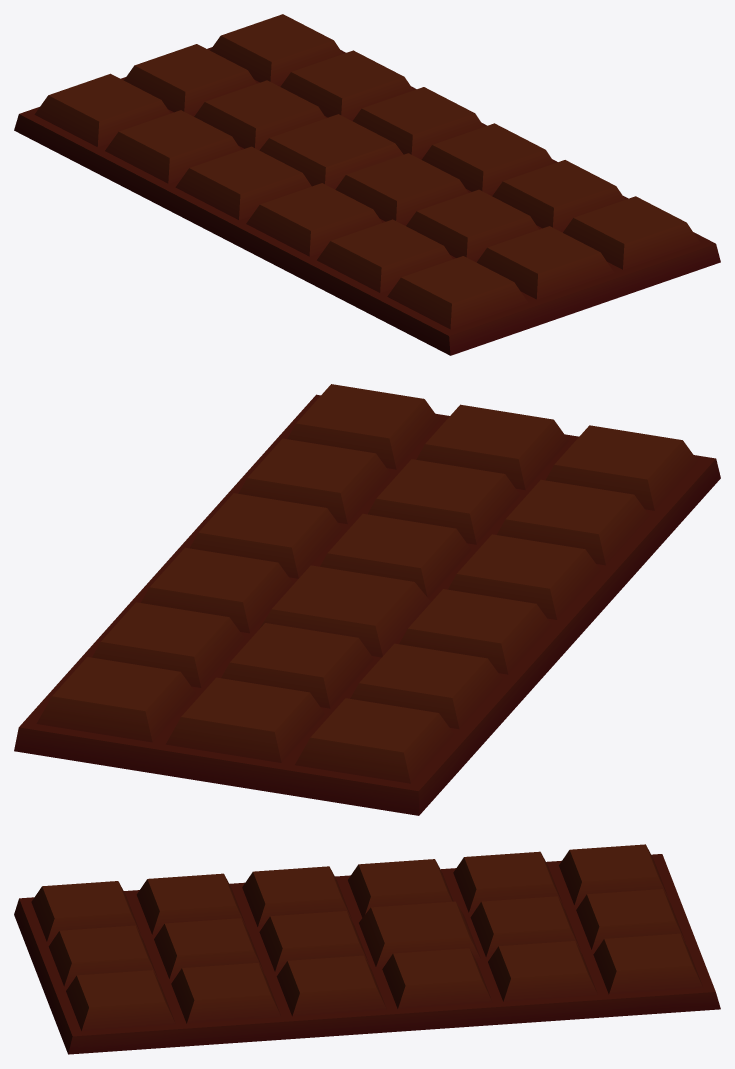
The model's file is Chocolate Bar.fbx.
The picture shows the model from 3 angles, top to bottom: view 1: azimuth 30°, elevation 25°; view 2: azimuth 150°, elevation 25°; view 3: azimuth 270°, elevation 25°; orthographic projection. The views are drawn at different scales.
Visible parts, largest first — view 1: ChocolateBar_1; view 2: ChocolateBar_1; view 3: ChocolateBar_1.
Part boxes in pixels (x1,y1,x2,y2): ChocolateBar_1: (14, 14, 720, 355); ChocolateBar_1: (14, 384, 720, 815); ChocolateBar_1: (14, 844, 720, 1054).
Bounding box in the file's own units: 36.7 × 3.33 × 59.25.
1 material, 1 textured.
